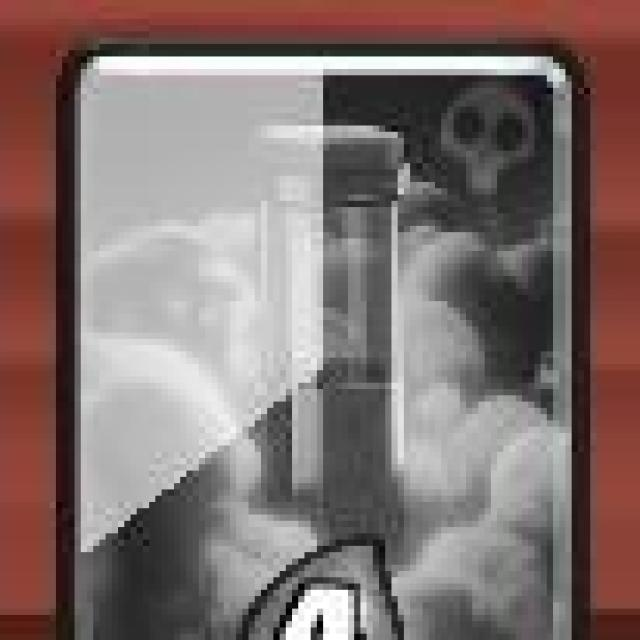Poison: (64, 47, 593, 640)
